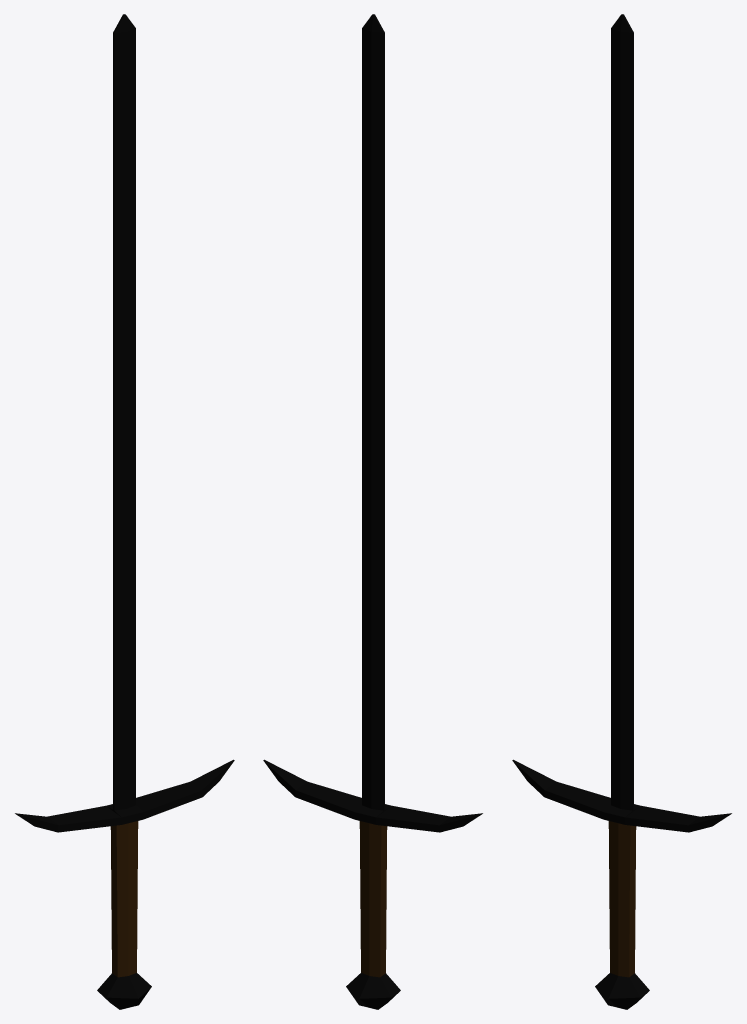
The model's file is Sword.glb.
3 views of the same model, side by side, from view 1: azimuth 30°, elevation 25°; view 2: azimuth 150°, elevation 25°; view 3: azimuth 330°, elevation 25° (orthographic).
Parts seen in each view (by area): view 1: Sword; view 2: Sword; view 3: Sword.
Part boxes in pixels (x1,y1,x2,y2): Sword: (15, 14, 234, 1009); Sword: (263, 14, 482, 1009); Sword: (512, 14, 731, 1009).
Size of the model in its own units: 0.4096 by 1.76 by 0.0911.
